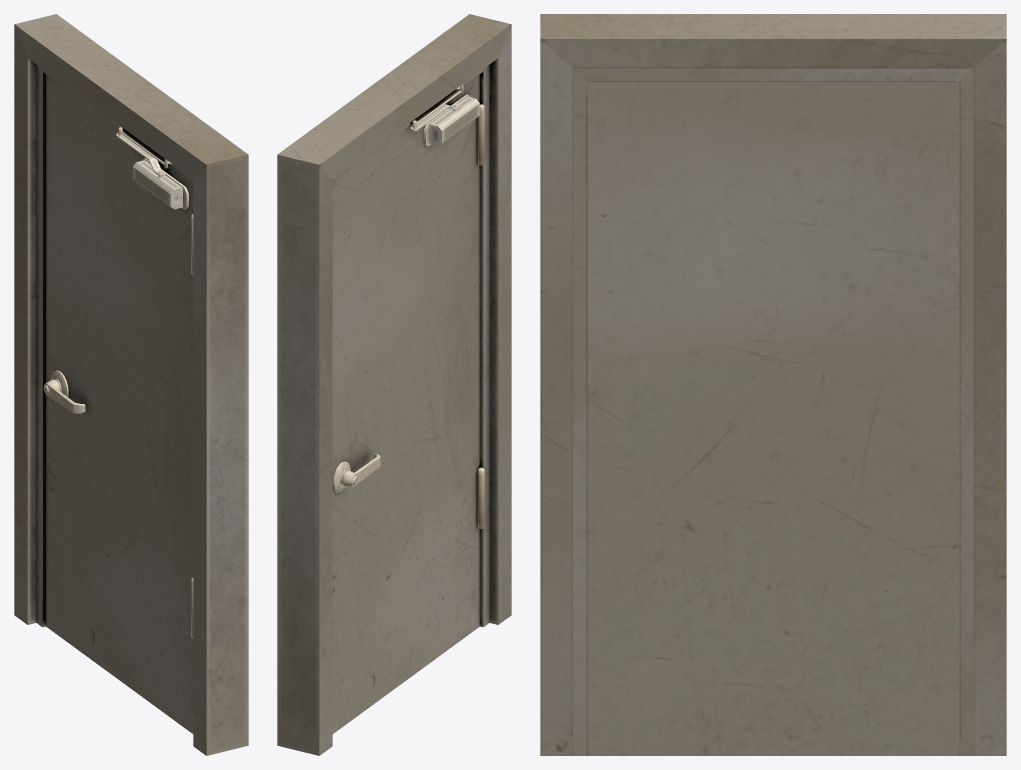
The model's file is exitDoor.fbx.
The picture shows the model from 3 angles, left to right: view 1: azimuth 30°, elevation 25°; view 2: azimuth 150°, elevation 25°; view 3: azimuth 270°, elevation 25°; orthographic projection. The views are drawn at different scales.
Visible parts, largest first — view 1: J1_a03; view 2: J1_a03; view 3: J1_a03.
Part boxes in pixels (bbox=[...]): J1_a03: bbox=[14, 14, 248, 755]; J1_a03: bbox=[277, 14, 511, 755]; J1_a03: bbox=[540, 14, 1006, 755].
Size of the model in its own units: 20.77 by 154 by 261.
1 material, 1 textured.
